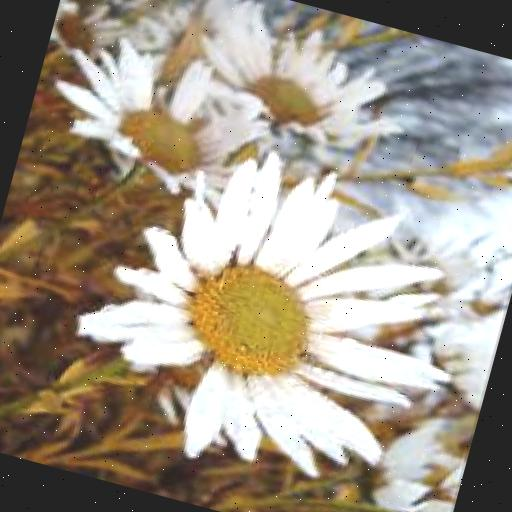daisy: (65, 145, 464, 498), (47, 28, 290, 206), (193, 14, 395, 154)
